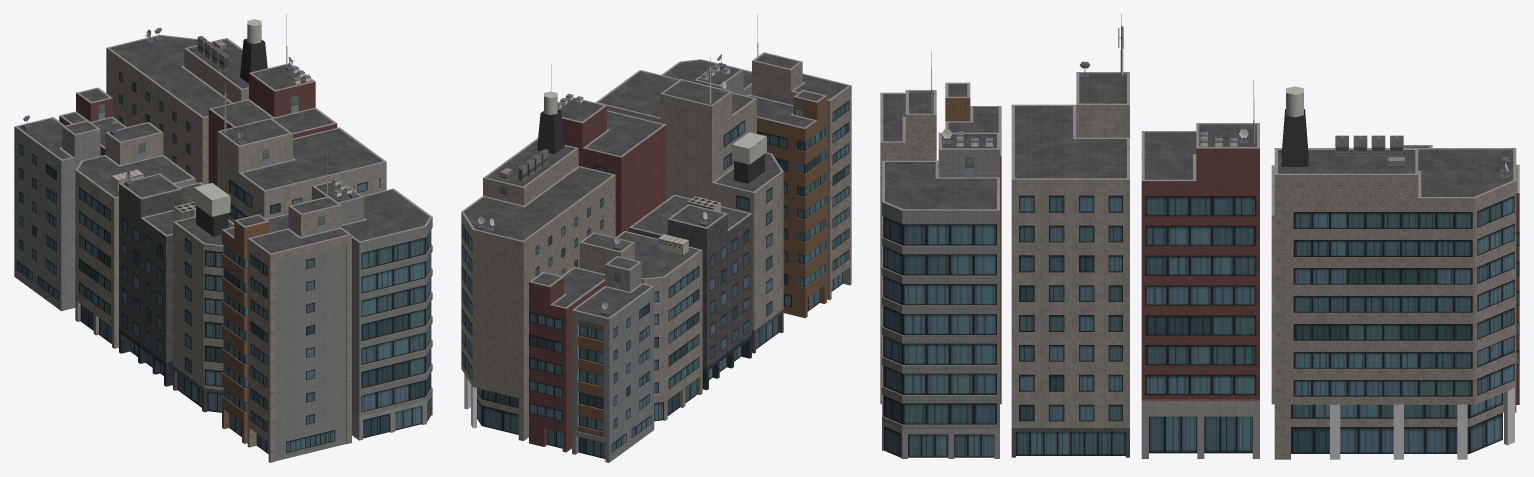
File: buildSetF.FBX
3 views of the same model, side by side, from view 1: azimuth 30°, elevation 25°; view 2: azimuth 150°, elevation 25°; view 3: azimuth 270°, elevation 25° (orthographic). The views are drawn at different scales.
Parts seen in each view (by area): view 1: buildSetF; view 2: buildSetF; view 3: buildSetF.
Part boxes in pixels (x1,y1,x2,y2): buildSetF: (14,14,432,462); buildSetF: (461,14,851,462); buildSetF: (880,14,1519,459).
Size of what is drawn, in the model's own units: 930 by 2326 by 1515.
